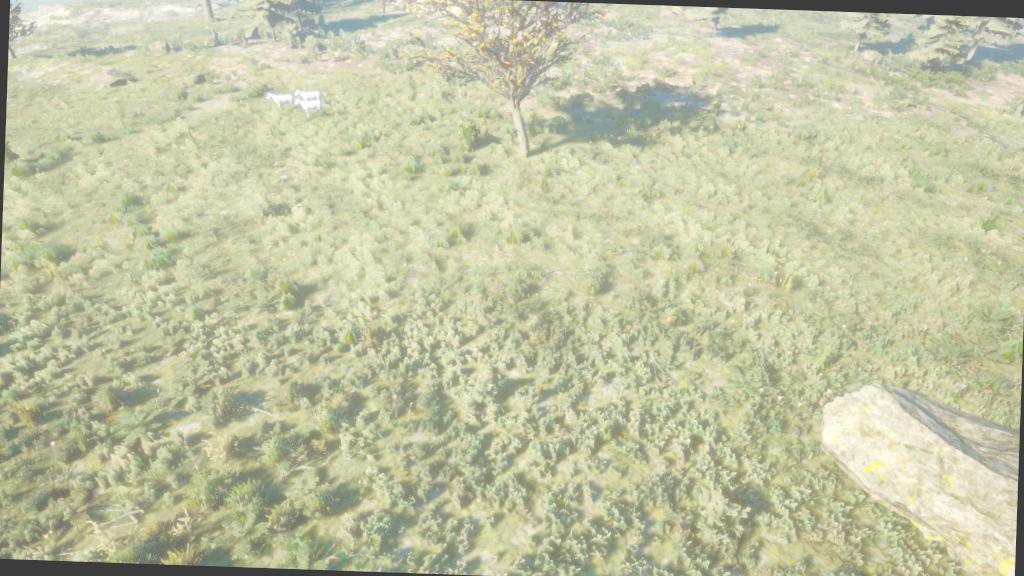zebra: (262, 91, 298, 114), (292, 96, 326, 120), (292, 86, 324, 104)
